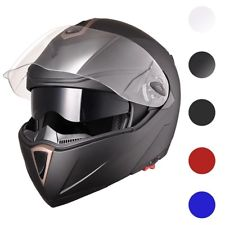with_helmet: (1, 15, 184, 209)
